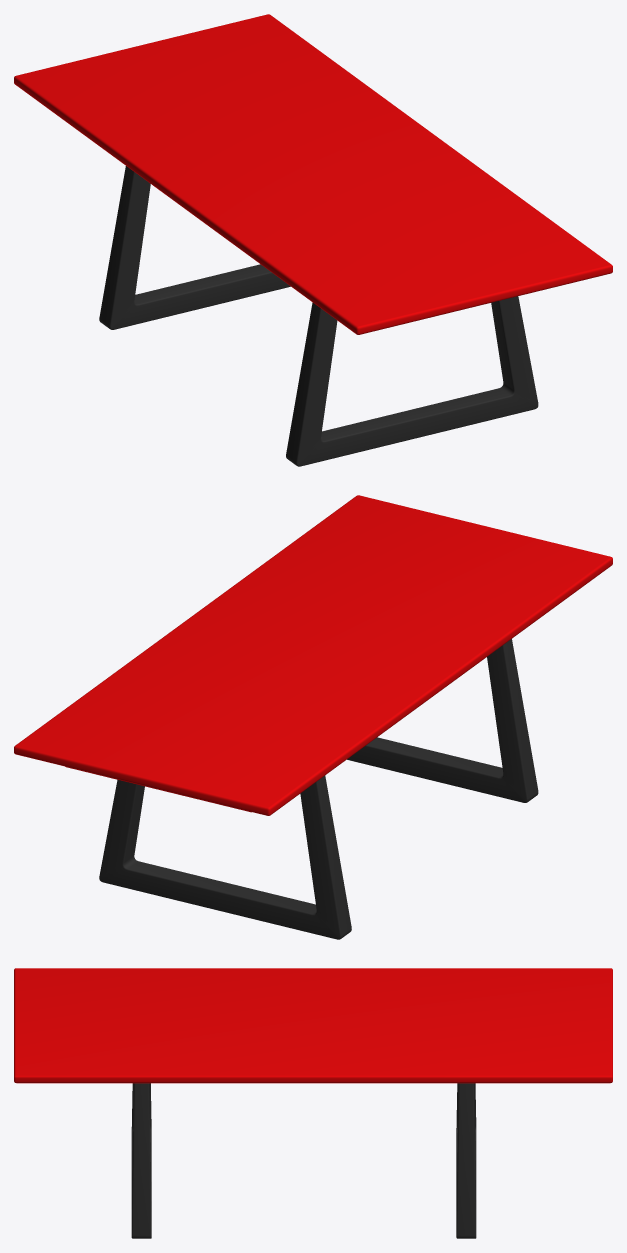
Rendered from Table2fbx.fbx.
3 views of the same model, one above another, from view 1: azimuth 30°, elevation 25°; view 2: azimuth 150°, elevation 25°; view 3: azimuth 270°, elevation 25° (orthographic). The views are drawn at different scales.
Visible parts, largest first — view 1: launchTable; view 2: launchTable; view 3: launchTable.
Part boxes in pixels (x1,y1,x2,y2): launchTable: [14, 14, 612, 466]; launchTable: [14, 495, 612, 939]; launchTable: [14, 968, 612, 1238].
Bounding box in the file's own units: 184 × 131 × 427.
